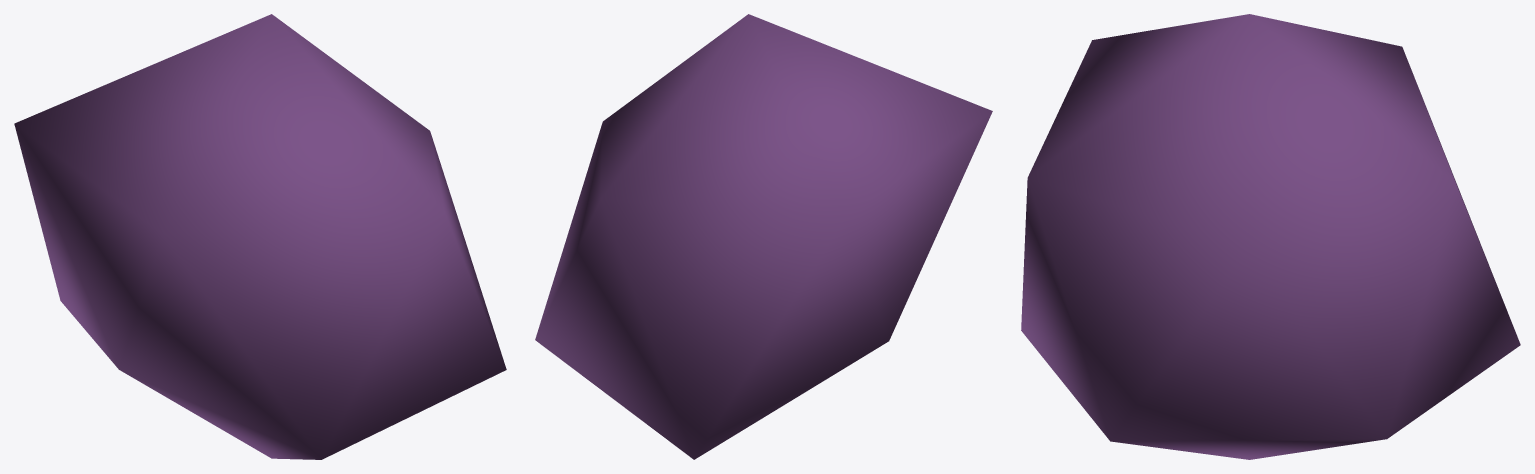
File: worm_food.glb
The picture shows the model from 3 angles, left to right: view 1: azimuth 30°, elevation 25°; view 2: azimuth 150°, elevation 25°; view 3: azimuth 270°, elevation 25°; orthographic projection. The views are drawn at different scales.
Parts seen in each view (by area): view 1: worm_food_v0; view 2: worm_food_v0; view 3: worm_food_v0.
Part boxes in pixels (x1,y1,x2,y2): worm_food_v0: [14, 14, 506, 459]; worm_food_v0: [535, 14, 992, 459]; worm_food_v0: [1021, 14, 1520, 459].
Bounding box in the file's own units: 0.1562 × 0.1882 × 0.1911.
